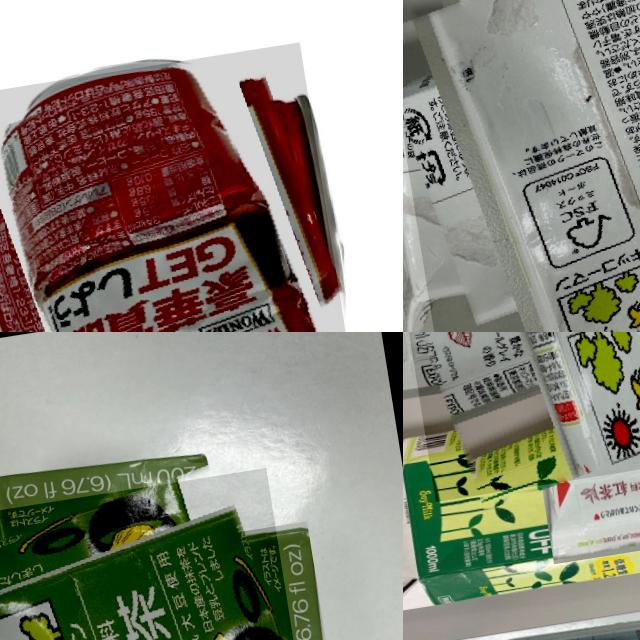Aluminium Foil: (403, 0, 640, 332), (403, 348, 640, 620), (0, 468, 318, 640), (403, 332, 640, 502)
Can: (0, 42, 353, 332)
